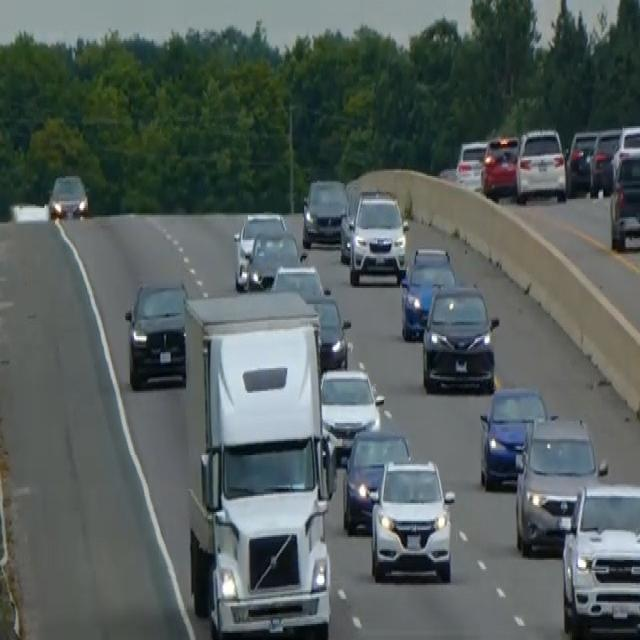car: (514, 412, 608, 554), (560, 480, 639, 638), (369, 457, 455, 583), (421, 281, 499, 393), (341, 425, 411, 533), (478, 384, 548, 489), (124, 278, 189, 390), (319, 362, 384, 460), (348, 188, 407, 284), (399, 243, 455, 339), (232, 210, 286, 288), (515, 126, 567, 203), (304, 290, 352, 368), (246, 228, 306, 290), (301, 176, 348, 247), (609, 144, 639, 251), (480, 133, 519, 199), (588, 126, 621, 196), (270, 261, 328, 299), (566, 128, 598, 192), (48, 172, 88, 220), (611, 122, 639, 186), (455, 137, 488, 185)
lorry: (180, 288, 337, 638)
